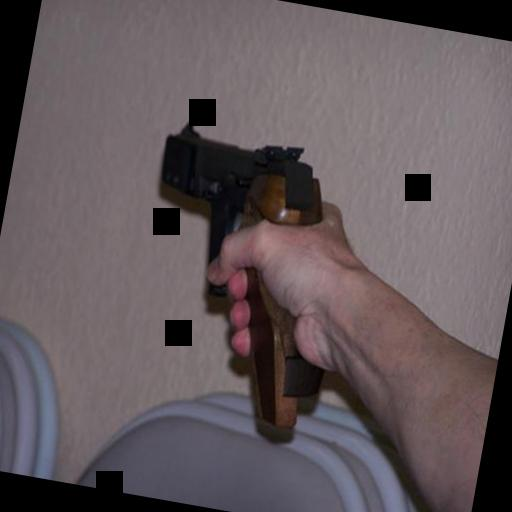Handgun: (118, 113, 360, 431)
